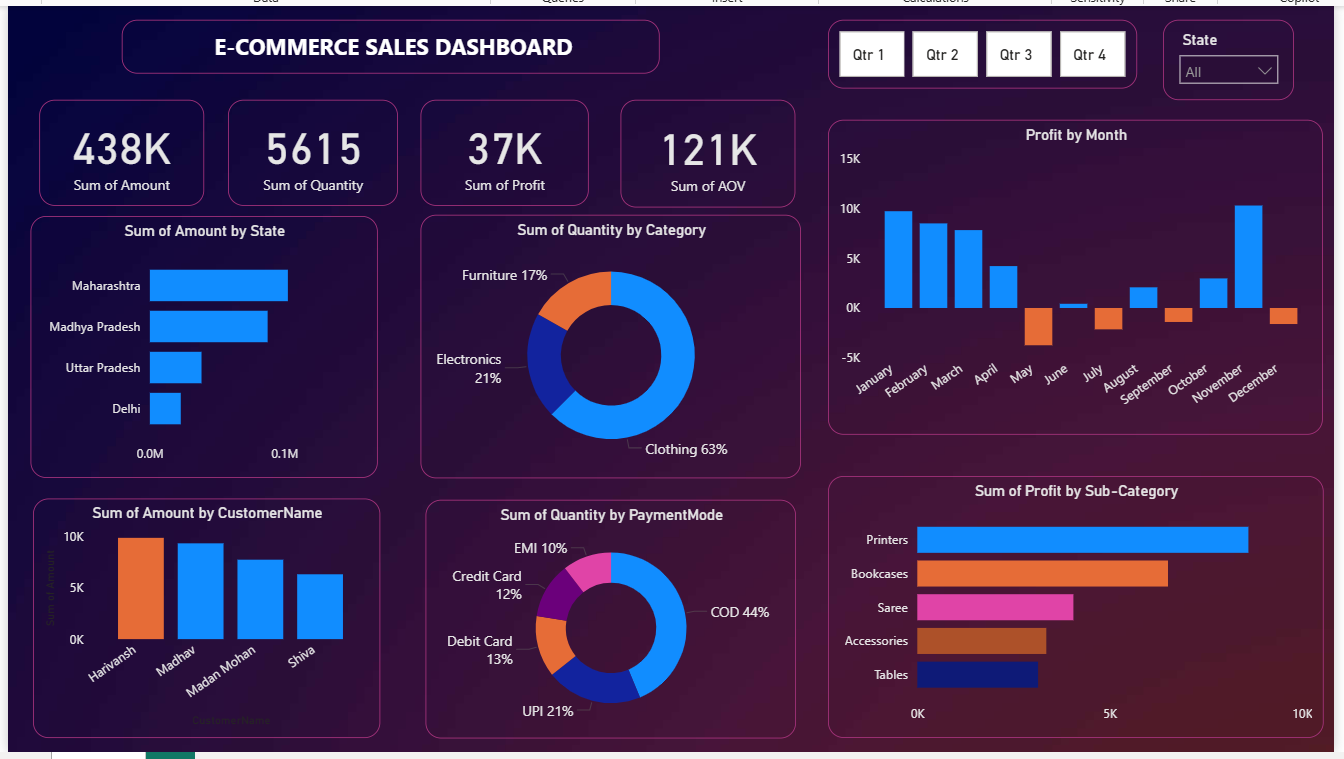

The dashboard page shown, as its layout file describes it:
{"tool":"powerbi","page":{"name":"Page 1","canvas":[1280,720],"ordinal":0},"visuals":[{"type":"textbox","box":[109.6,13.3,519.3,51.8],"z":0},{"type":"columnChart","title":"Profit by Month","fields":{"Y":["Details.Profit"],"Category":["Orders.Order Date.Variation.Date Hierarchy.Month"]},"box":[791.4,109.9,477.8,303.7],"z":1000},{"type":"barChart","fields":{"Category":["Details.Sub-Category"],"Y":["Details.Profit"]},"box":[791.6,454.2,478.3,253],"z":2000},{"type":"donutChart","fields":{"Category":["Details.Category"],"Y":["Details.Quantity"]},"box":[397.6,201.2,367.5,254.2],"z":3000},{"type":"donutChart","fields":{"Y":["Details.Quantity"],"Category":["Details.PaymentMode"]},"box":[402.4,477.1,357.8,230.1],"z":4000},{"type":"card","fields":{"Values":["Details.Amount"]},"box":[30.1,90.4,159,102.4],"z":5000},{"type":"card","fields":{"Values":["Details.Quantity"]},"box":[212,90.4,163.9,102.4],"z":6000},{"type":"card","fields":{"Values":["Details.Profit"]},"box":[397.6,90.4,162.7,102.4],"z":7000},{"type":"card","fields":{"Values":["Details.AOV"]},"box":[591.6,90.4,168.7,103.6],"z":8000},{"type":"barChart","fields":{"Category":["Orders.State"],"Y":["Details.Amount"]},"box":[21.7,202.4,334.9,253],"z":9000},{"type":"columnChart","fields":{"Category":["Orders.CustomerName"],"Y":["Details.Amount"]},"box":[24.1,475.9,334.9,231.3],"z":10000},{"type":"advancedSlicerVisual","fields":{"Values":["Orders.Order Date.Variation.Date Hierarchy.Quarter"]},"box":[791.6,13.3,298.8,66.3],"z":11000},{"type":"slicer","fields":{"Values":["Orders.State"]},"box":[1114.8,13.3,126.7,77.2],"z":11001}]}

Visuals, with their boxes on the page's 1280x720 design canvas (x1, y1, x2, y2). These are canvas units, not pixel positions in the 1344x759 screenshot, which may show the page scaled, cropped or inside an application window:
textbox: select_region(110, 13, 629, 65)
"Profit by Month" columnChart: select_region(791, 110, 1269, 414)
barChart - Details.Sub-Category x Details.Profit: select_region(792, 454, 1270, 707)
donutChart - Details.Category x Details.Quantity: select_region(398, 201, 765, 455)
donutChart - Details.Quantity x Details.PaymentMode: select_region(402, 477, 760, 707)
card - Details.Amount: select_region(30, 90, 189, 193)
card - Details.Quantity: select_region(212, 90, 376, 193)
card - Details.Profit: select_region(398, 90, 560, 193)
card - Details.AOV: select_region(592, 90, 760, 194)
barChart - Orders.State x Details.Amount: select_region(22, 202, 357, 455)
columnChart - Orders.CustomerName x Details.Amount: select_region(24, 476, 359, 707)
advancedSlicerVisual - Orders.Order Date.Variation.Date Hierarchy.Quarter: select_region(792, 13, 1090, 80)
slicer - Orders.State: select_region(1115, 13, 1242, 90)
